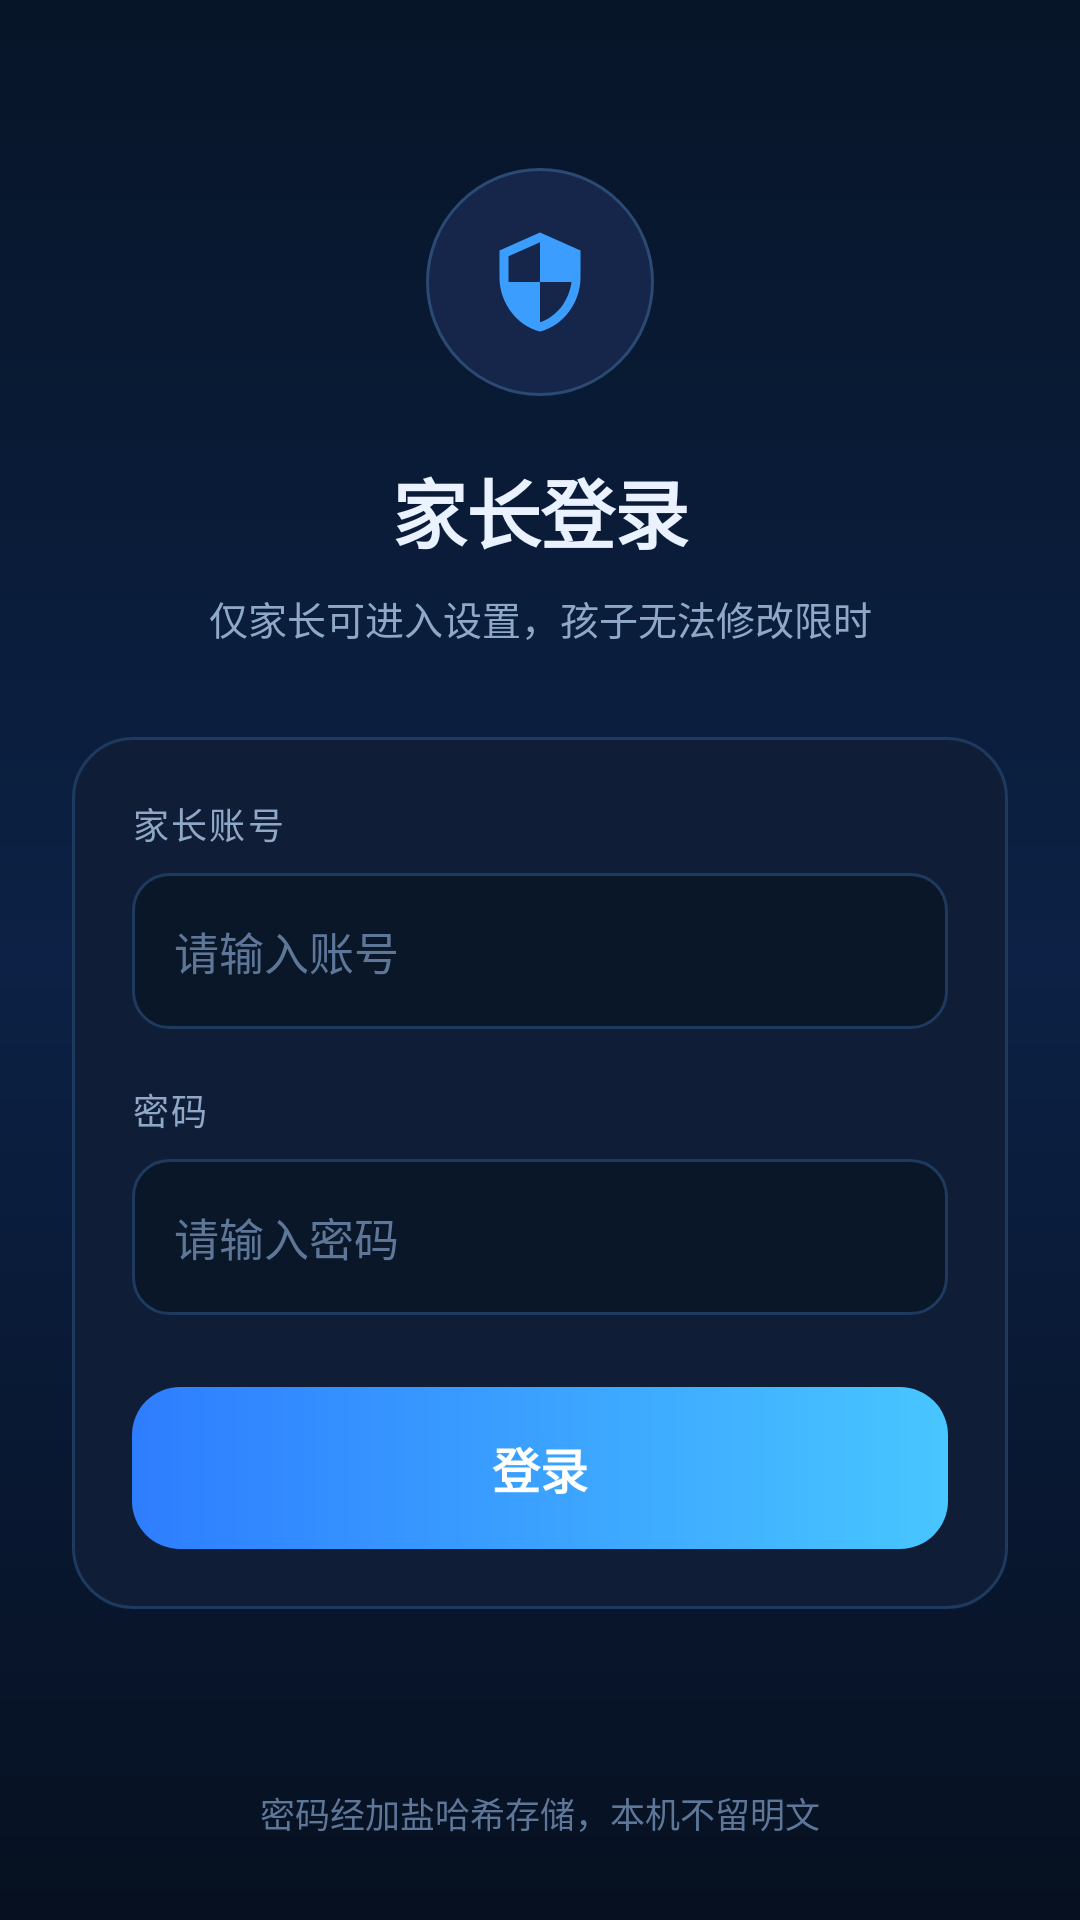

Icons on this 1080px x 1920px Android screen, each with the point to tap as (x=x, y=y):
安全: (x=540, y=282)
